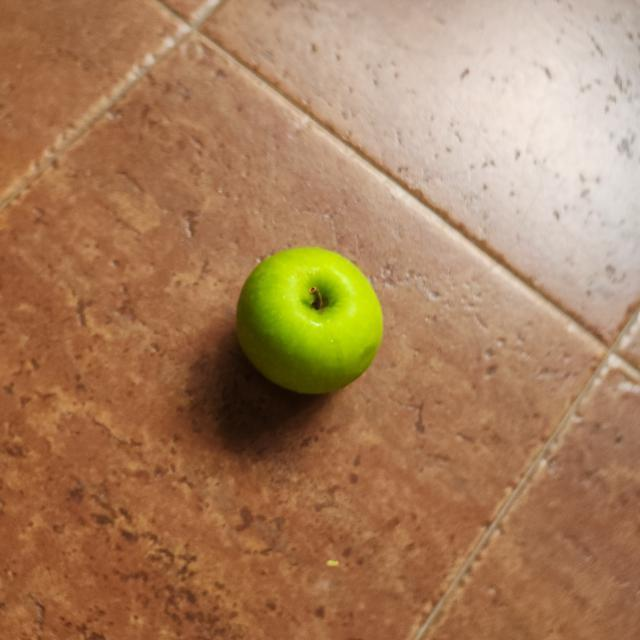apple: (234, 235, 388, 400)
